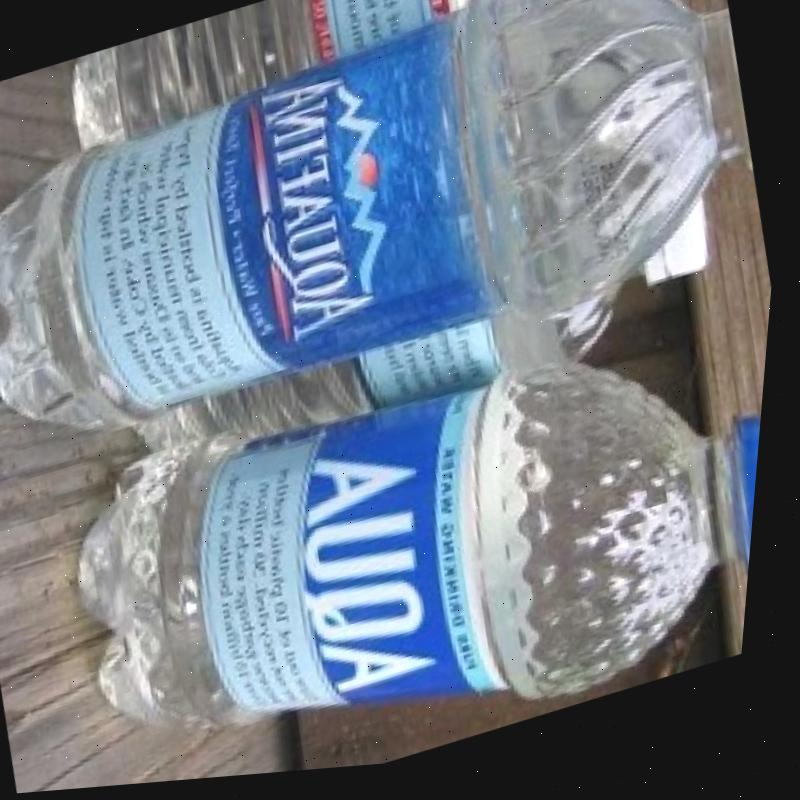botella: (48, 271, 779, 794), (0, 0, 786, 472), (116, 201, 729, 489), (56, 0, 721, 158)
